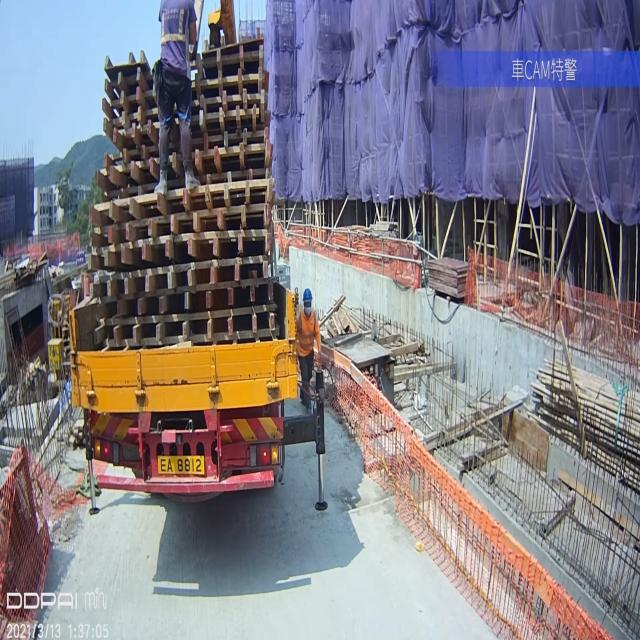machinery: (69, 314, 328, 524)
worker: (153, 2, 199, 196), (300, 282, 321, 409)
